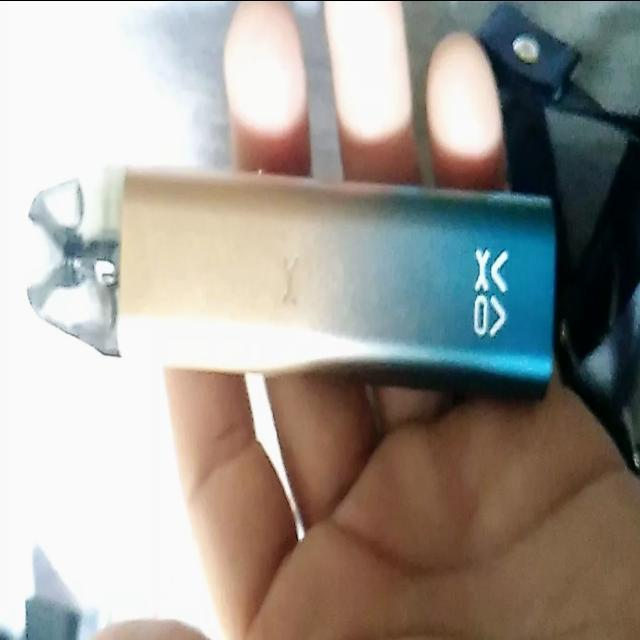Hazard: (21, 169, 556, 398)
